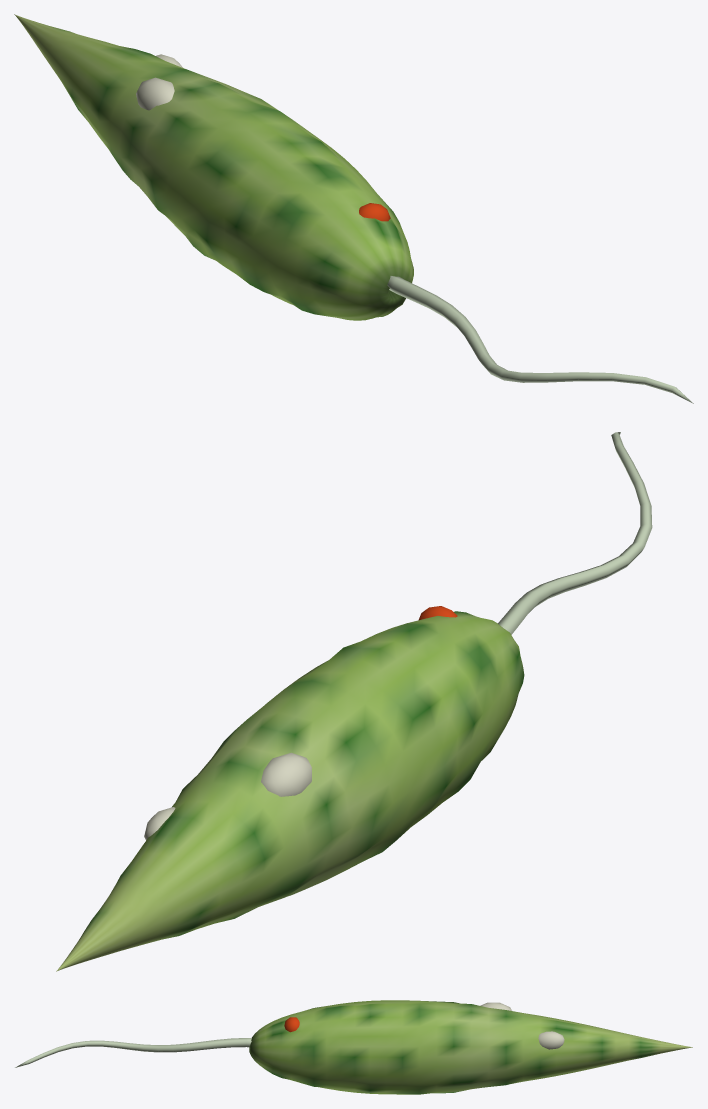
File: Euglena.fbx
3 renders of one model, top to bottom at view 1: azimuth 30°, elevation 25°; view 2: azimuth 150°, elevation 25°; view 3: azimuth 270°, elevation 25°, orthographic. The views are drawn at different scales.
Parts seen in each view (by area): view 1: Euglena; view 2: Euglena; view 3: Euglena.
Part boxes in pixels (<box>): Euglena: <box>14,14,693,403</box>; Euglena: <box>56,432,652,971</box>; Euglena: <box>15,1000,692,1094</box>.
Bounding box in the file's own units: 0.2866 × 0.2409 × 1.71.
